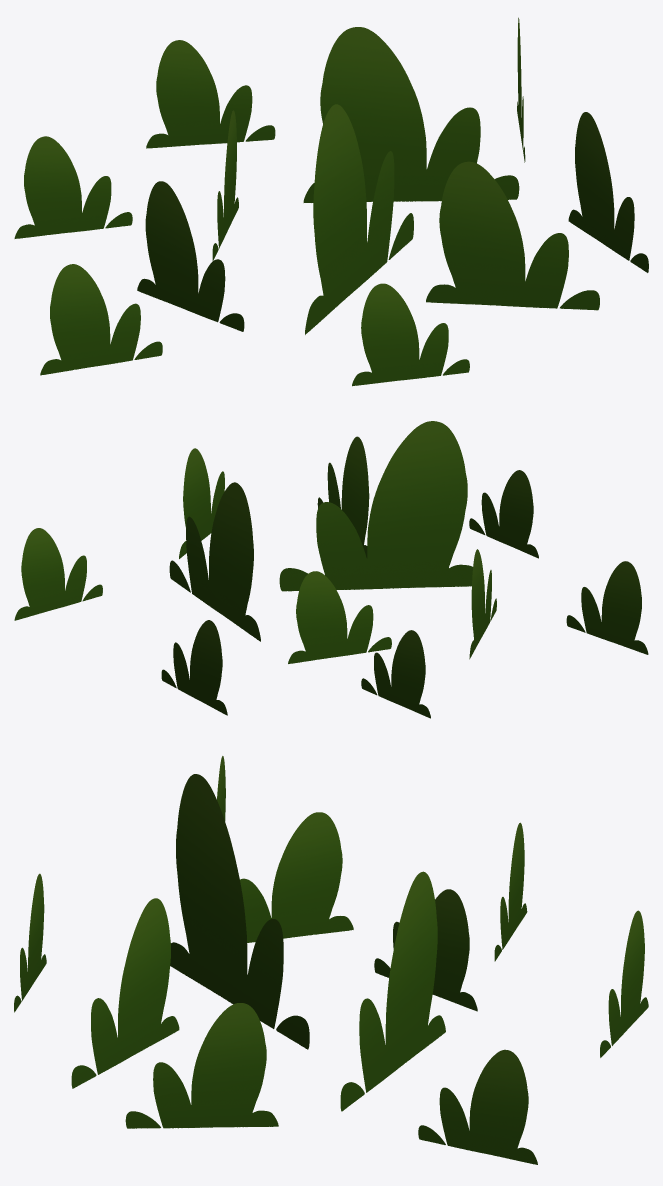
The model's file is sm_GrassBlades.fbx.
The picture shows the model from 3 angles, top to bottom: view 1: azimuth 30°, elevation 25°; view 2: azimuth 150°, elevation 25°; view 3: azimuth 270°, elevation 25°; orthographic projection. The views are drawn at different scales.
Visible parts, largest first — view 1: sm_GrassBlades; view 2: sm_GrassBlades; view 3: sm_GrassBlades.
Part boxes in pixels (x1,y1,x2,y2): sm_GrassBlades: (14,17,648,386); sm_GrassBlades: (14,421,648,718); sm_GrassBlades: (14,756,648,1164).
Bounding box in the file's own units: 110 × 36.24 × 94.04.
